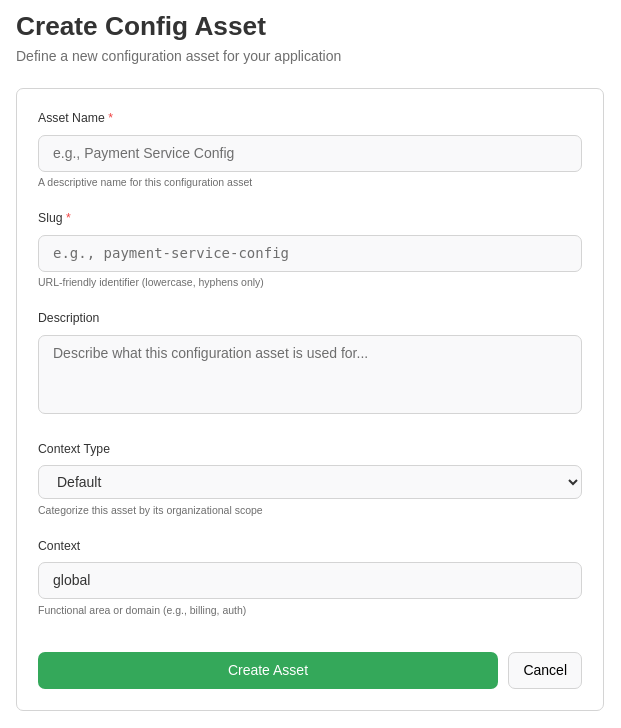
it: AssetCreate.vue › auto-generates slug
In the field with id "name": (310,153) [38,134,582,172], type "Test Service Config"
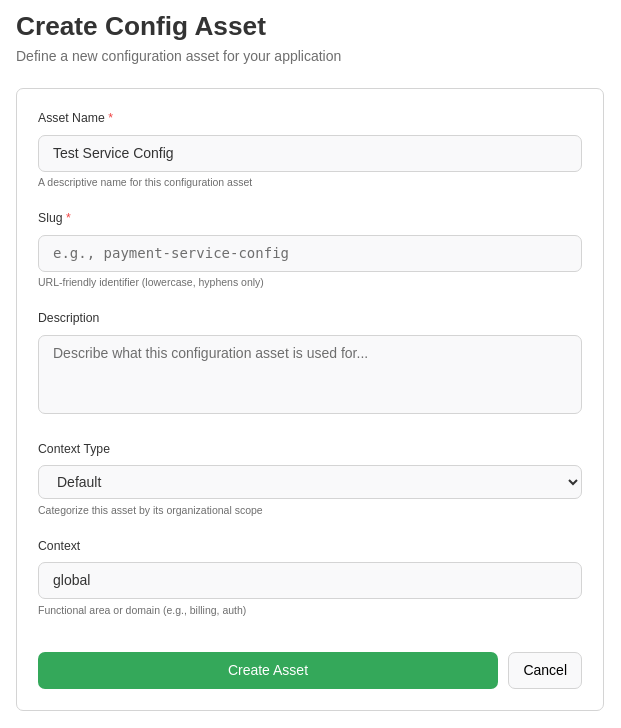
Leave the field with id "name", box [38,134,582,172]
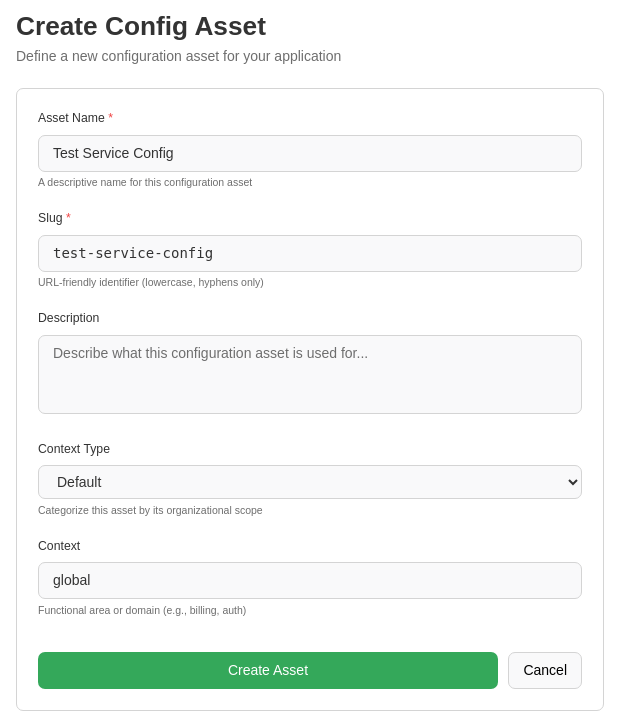
Expected: the field with id "slug" holds "test-service-config", [38,234,582,272]
